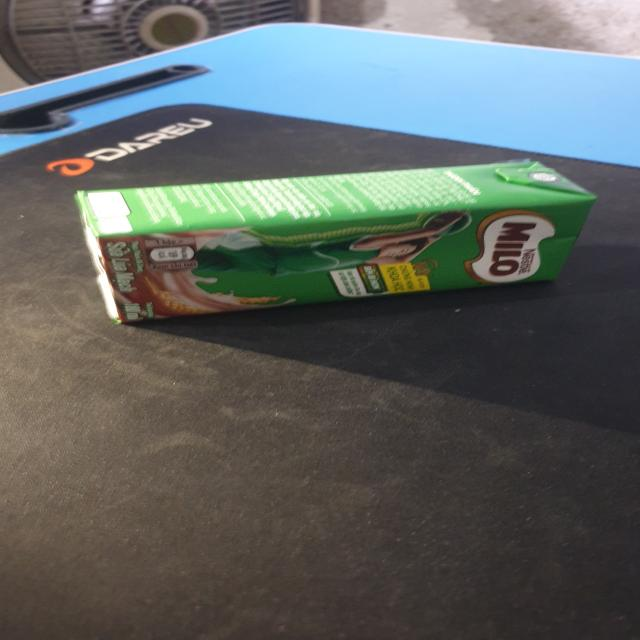Milo: (83, 162, 599, 327)
